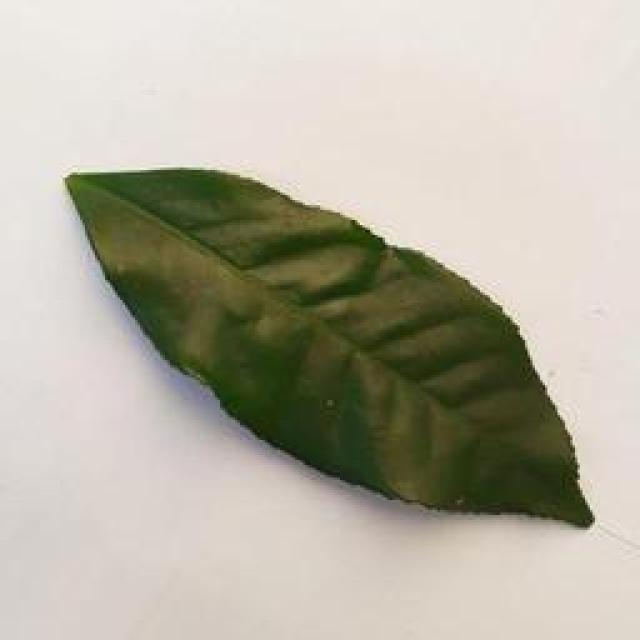Healthy: (61, 150, 605, 536)
